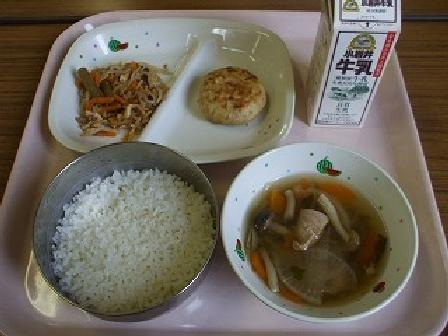Milk: (299, 4, 416, 134)
Rice: (41, 153, 216, 313)
cutlet: (189, 55, 277, 135)
salad with sauce: (69, 55, 174, 134)
vegetable soup: (227, 158, 405, 308)
